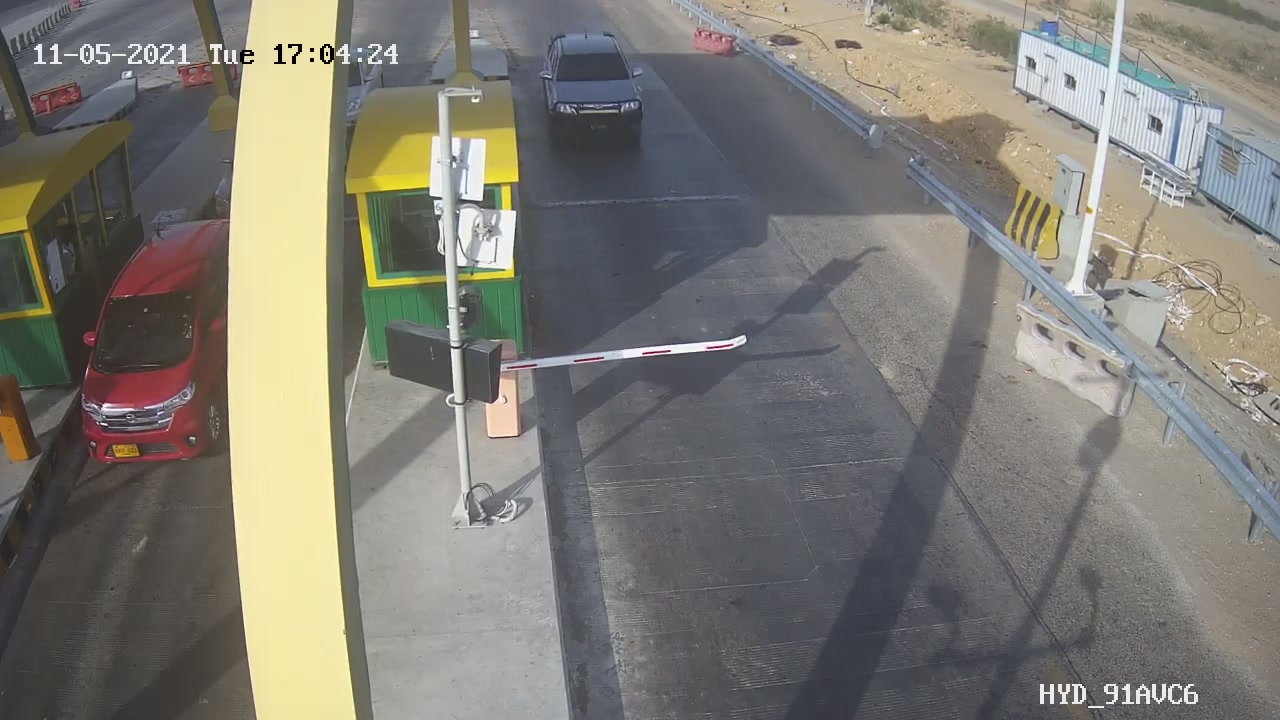F1: (525, 14, 666, 164)
